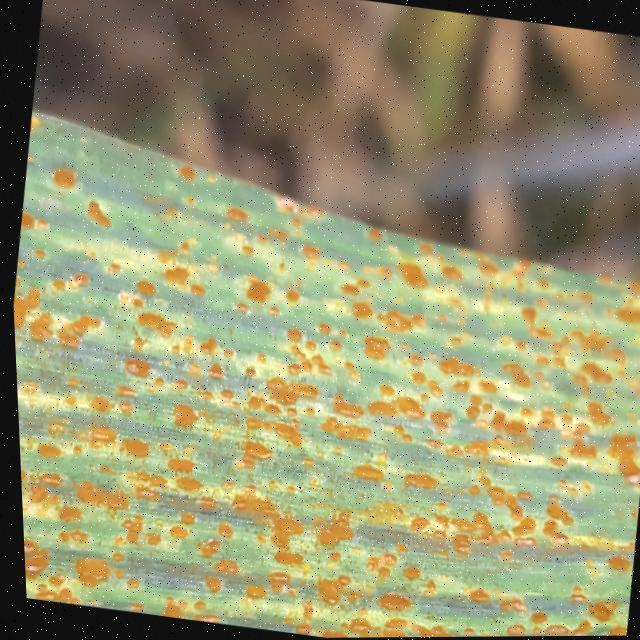orang_rust: (4, 107, 640, 640)
